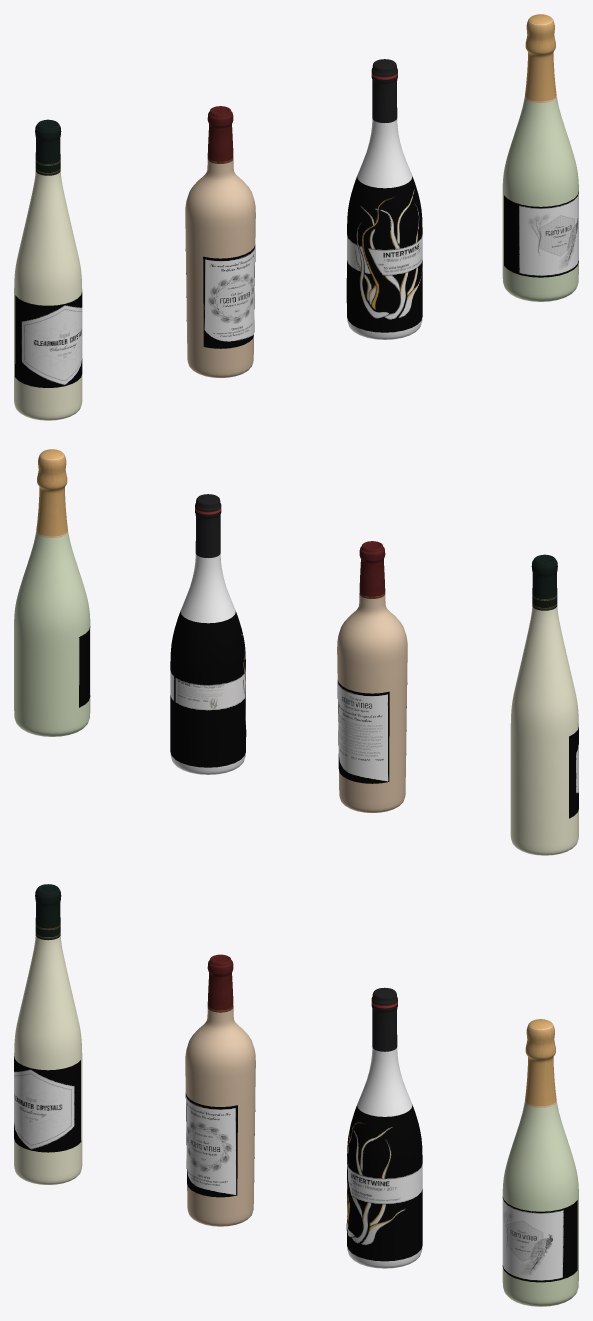
Rendered from wine_bottles_01.glb.
3 views of the same model, one above another, from view 1: azimuth 30°, elevation 25°; view 2: azimuth 150°, elevation 25°; view 3: azimuth 330°, elevation 25° (orthographic).
Parts seen in each view (by area): view 1: wine_bottles_01_champagne, wine_bottles_01_alsace, wine_bottles_01_burgundy, wine_bottles_01_bordeaux; view 2: wine_bottles_01_champagne, wine_bottles_01_alsace, wine_bottles_01_burgundy, wine_bottles_01_bordeaux; view 3: wine_bottles_01_champagne, wine_bottles_01_alsace, wine_bottles_01_burgundy, wine_bottles_01_bordeaux.
Boxes of the visible parts, x1,y1,x2,y2 form: wine_bottles_01_champagne: (502,14,578,301); wine_bottles_01_alsace: (14,119,82,420); wine_bottles_01_burgundy: (346,59,422,339); wine_bottles_01_bordeaux: (185,106,255,377); wine_bottles_01_champagne: (14,449,90,736); wine_bottles_01_alsace: (510,554,578,855); wine_bottles_01_burgundy: (170,494,246,774); wine_bottles_01_bordeaux: (337,541,407,812); wine_bottles_01_champagne: (502,1019,578,1306); wine_bottles_01_alsace: (14,884,82,1184); wine_bottles_01_burgundy: (346,987,422,1268); wine_bottles_01_bordeaux: (185,954,255,1226).
Bounding box in the file's own units: 0.6763 × 0.3314 × 0.0805.
Materials: 9 (6 with a texture image).
